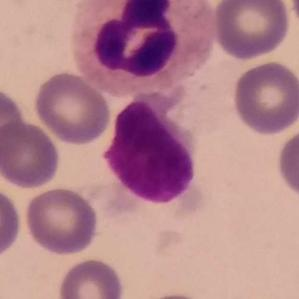Lymphocyte: (100, 89, 210, 207)
Neutrophil: (70, 1, 216, 99)
RBC: (31, 69, 113, 146), (22, 184, 100, 257), (230, 59, 299, 137), (210, 0, 292, 61), (0, 118, 63, 190), (56, 256, 126, 299), (0, 84, 28, 168), (274, 121, 299, 204), (0, 184, 24, 262), (133, 290, 216, 299), (287, 1, 299, 35)
